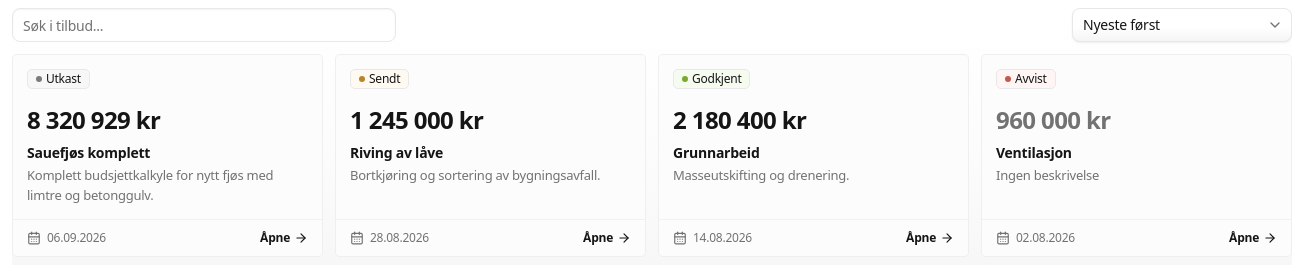
Test: Tilbud-fanen – sortering › sorterer «Eldste først»
Step 1. Click the dropdown → [1182, 25], box x1=1072 y1=8 x2=1292 y2=42
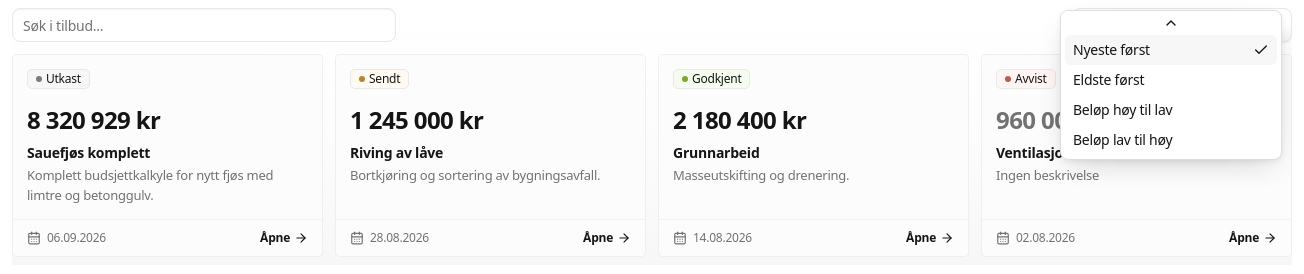
Step 2. Click the option "Eldste først" → [1109, 80], box x1=1073 y1=70 x2=1144 y2=89
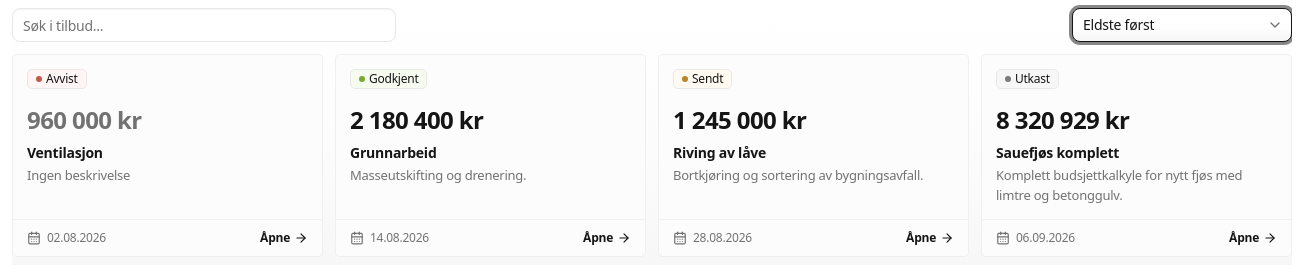
expect the dropdown reads "Eldste først": met, box x1=1072 y1=8 x2=1292 y2=42
